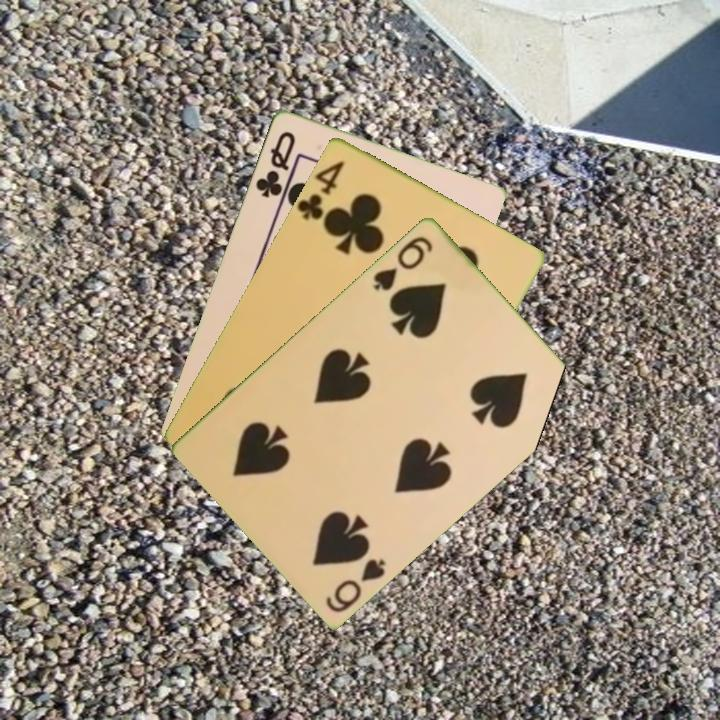4c: (294, 156, 348, 223)
6s: (369, 232, 436, 294), (322, 554, 389, 615)
Qc: (251, 126, 298, 201)
